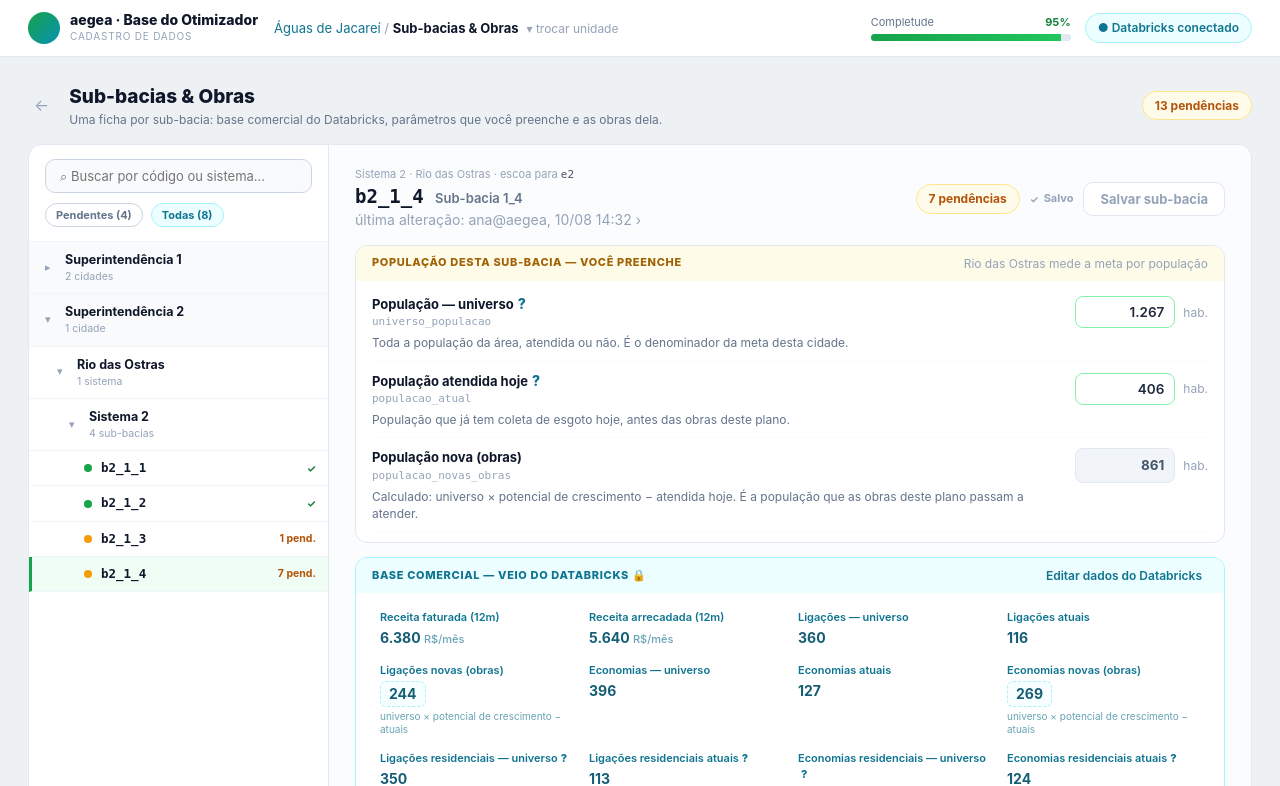
como o recorte residencial deve ser lido › o "?" abre o verbete com a regra e o exemplo numérico
This screenshot has width=1280, height=786.
Expected: the button "Salvar sub-bacia" is shown, [1084,182,1225,216]
Click the button named "O que é \"Ligações residenciais — universo\"?": (564,758) [558,753,570,764]
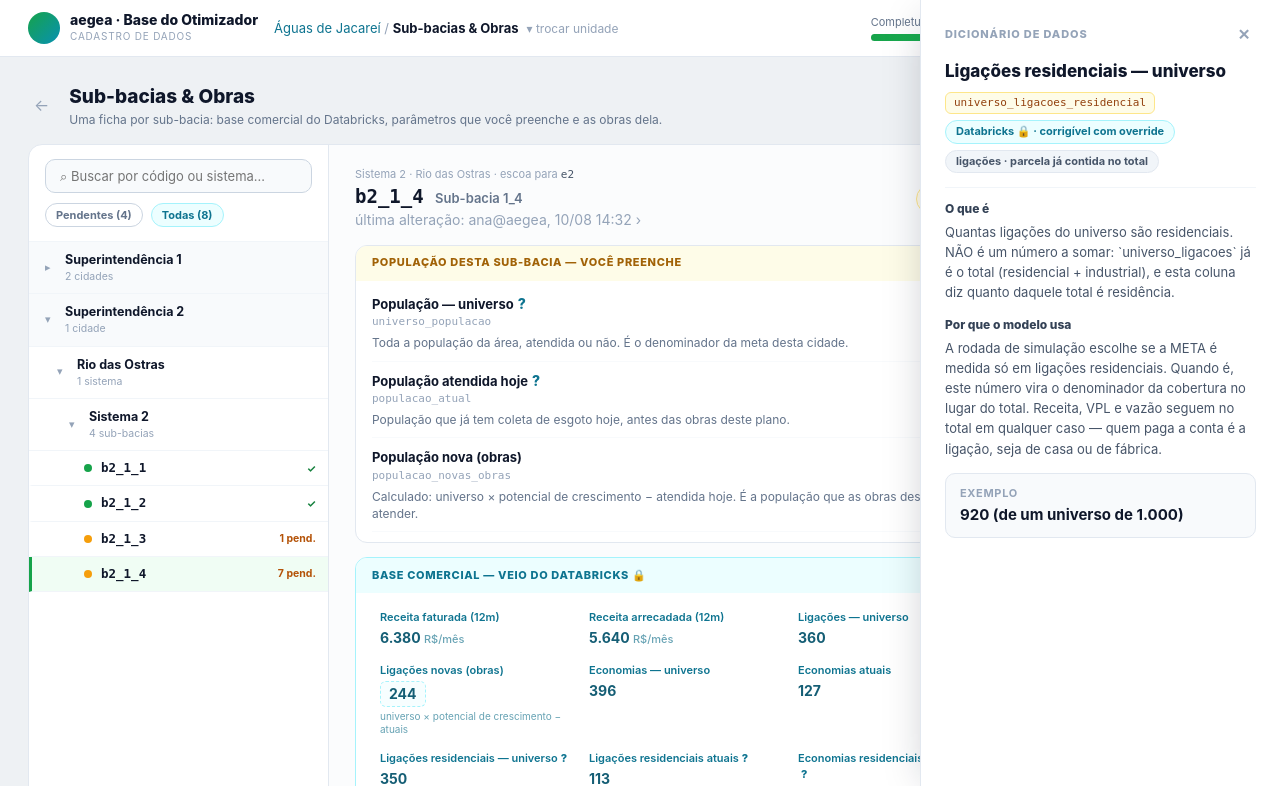
Result: the text "920 (de um universo de 1.000)" is shown at [960,505,1184,524]
